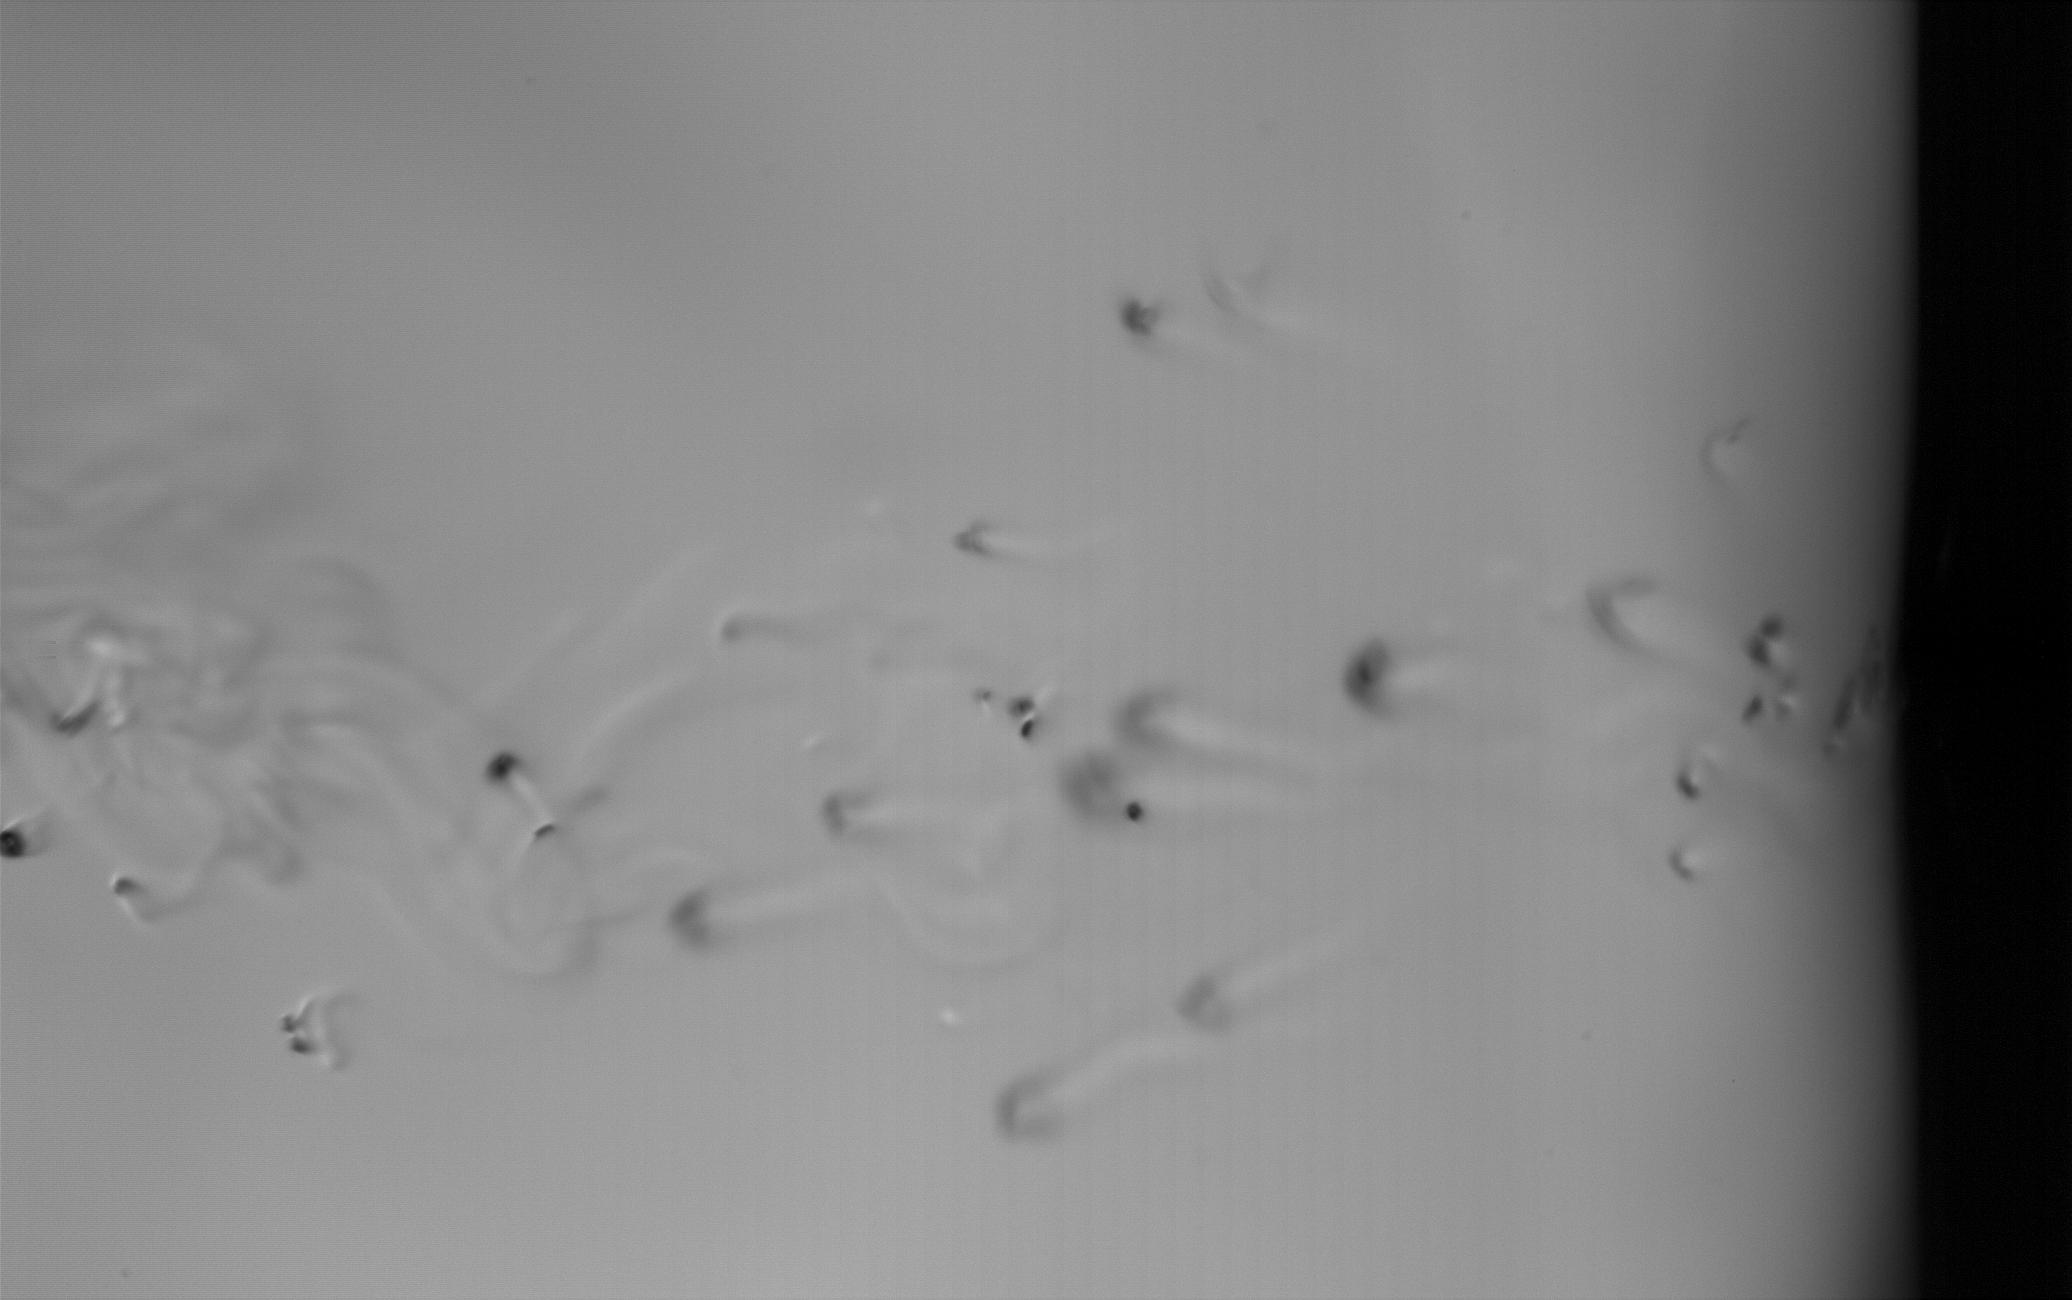Blurry: (280, 987, 348, 1068), (1343, 634, 1395, 730), (45, 682, 110, 743), (1739, 612, 1780, 684), (1117, 297, 1170, 340), (1659, 836, 1701, 888), (1676, 757, 1705, 803), (1009, 698, 1036, 735), (1736, 693, 1764, 727)
ClassicalEvaporation: (483, 745, 521, 783), (1121, 800, 1151, 831)
DiffusiveMixing: (1054, 690, 1199, 837), (666, 877, 815, 957), (1586, 563, 1661, 655), (987, 1069, 1062, 1141), (821, 781, 890, 848), (952, 514, 1028, 573), (111, 865, 163, 929)
TransitionalMixing: (525, 821, 564, 843)
